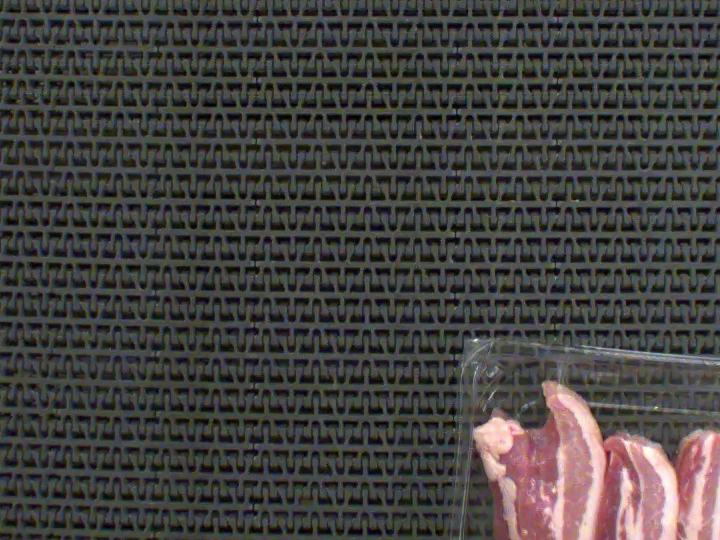packaging-error: (543, 354, 576, 389)
